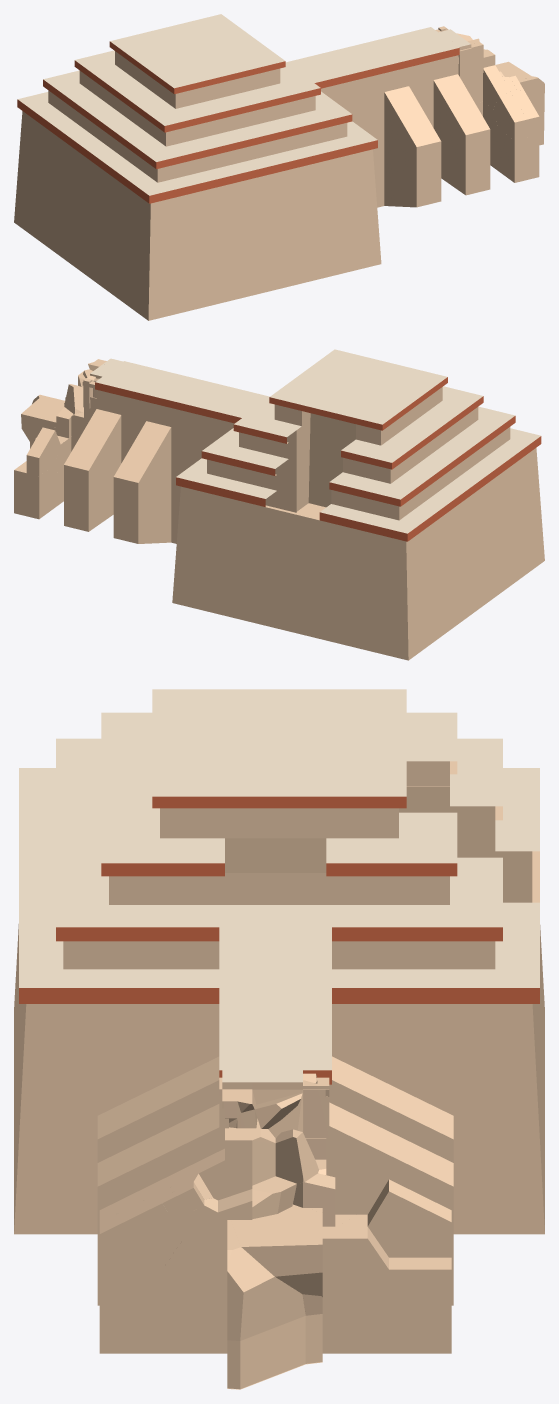
File: LS_B_Fixed.fbx
The picture shows the model from 3 angles, top to bottom: view 1: azimuth 30°, elevation 25°; view 2: azimuth 150°, elevation 25°; view 3: azimuth 270°, elevation 25°; orthographic projection. The views are drawn at different scales.
Visible parts, largest first — view 1: LS_B1, LS_B2; view 2: LS_B1, LS_B2; view 3: LS_B1, LS_B2.
Boxes of the visible parts, left/top/right/bottom form: LS_B1: left=14, top=14, right=490, bottom=320; LS_B2: left=435, top=26, right=544, bottom=182; LS_B1: left=64, top=349, right=544, bottom=660; LS_B2: left=14, top=358, right=122, bottom=519; LS_B1: left=14, top=689, right=544, bottom=1305; LS_B2: left=99, top=1070, right=451, bottom=1389.
Size of the model in its own units: 6209 by 2525 by 3205.
